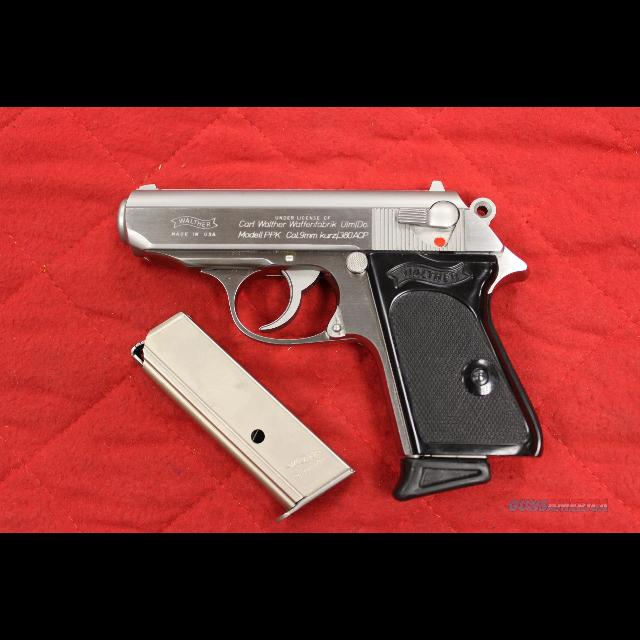handgun: (114, 177, 550, 508)
